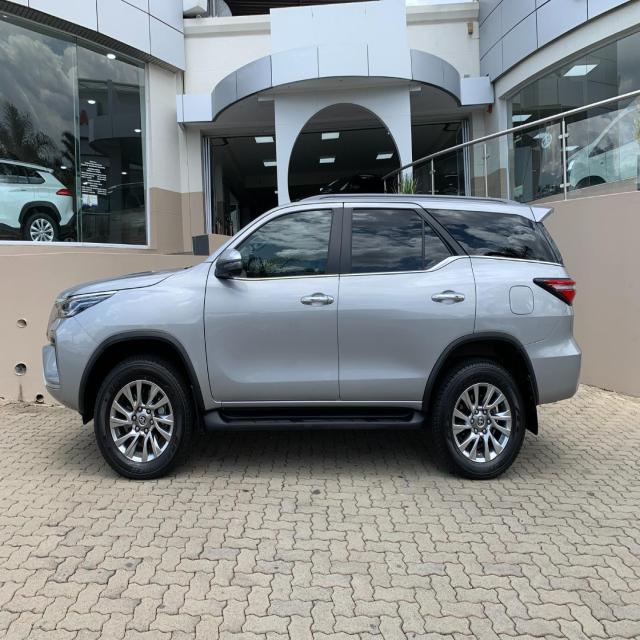light_vehicle: (41, 193, 584, 483)
